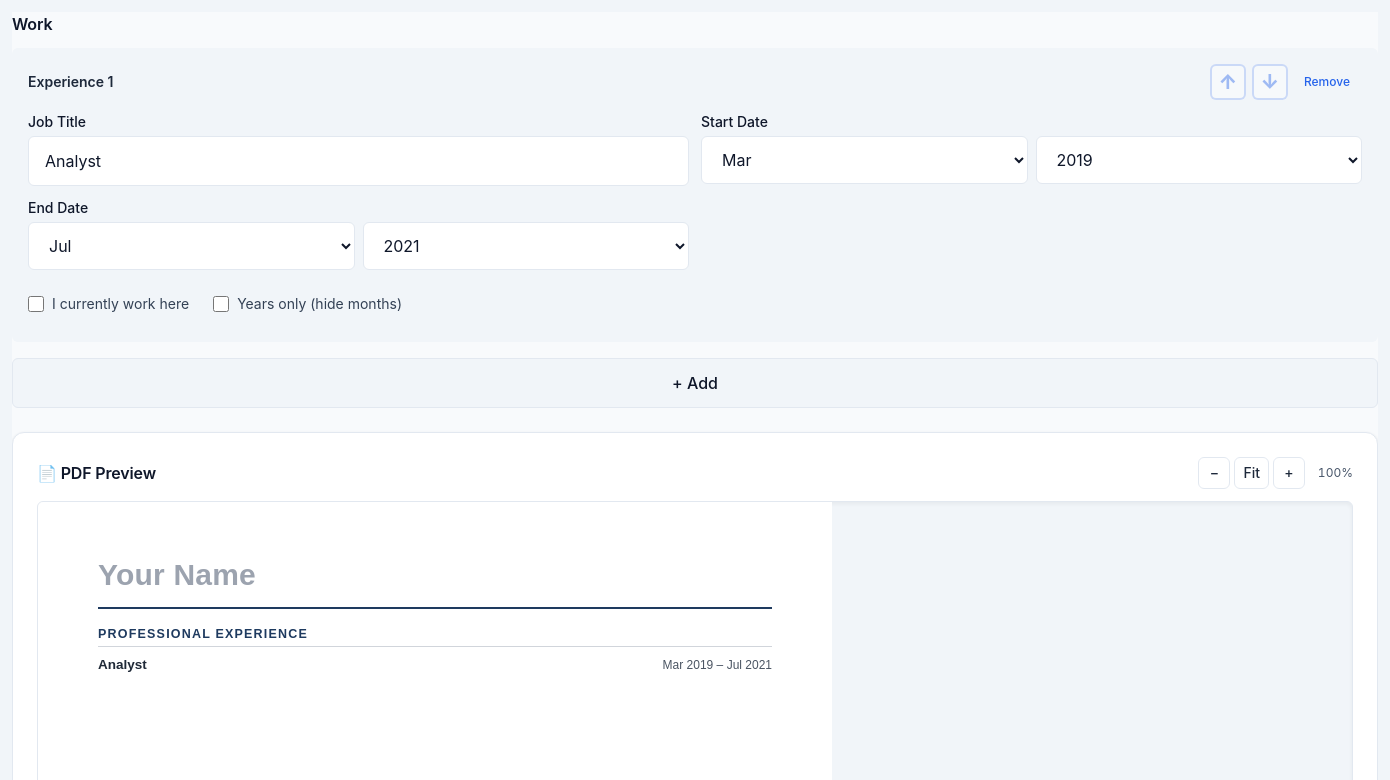
date fields with "Years only" › "Years only" hides months for the whole entry and keeps the years
This screenshot has width=1390, height=780.
Expected: the text "Mar 2019 – Jul 2021" is shown, [663,657,772,674]
What coordinates should you click on to do the following:
click the checkbox labelled "Years only (hide months)"
I would click on:
 (221, 304)
Its box is [213,296,229,312].
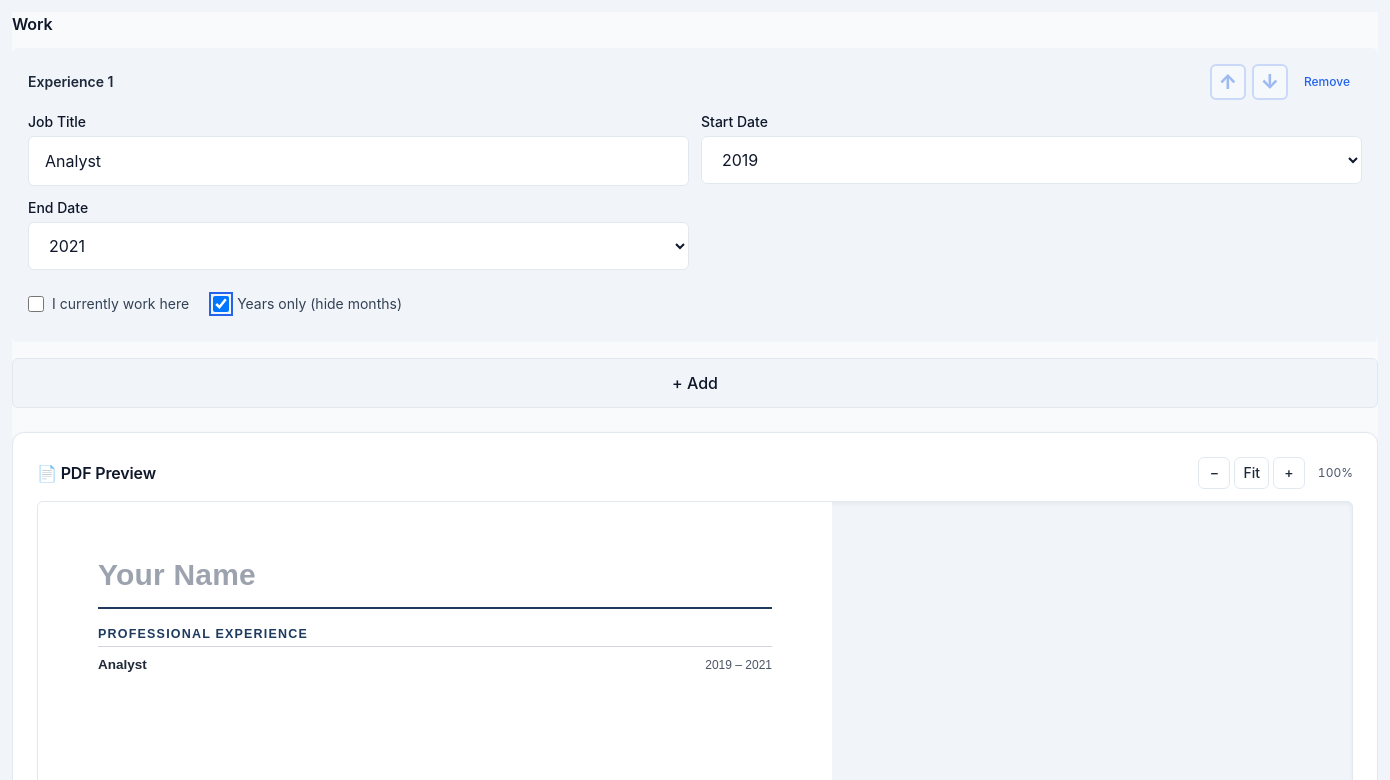
Expected: the field labelled "Start Date month" is not shown
Expected: the text "2019 – 2021" is shown, [705,657,772,674]
// Unticking brings the month pickers back, empty, with the years kept.
What coordinates should you click on to do the following:
click the checkbox labelled "Years only (hide months)"
I would click on:
 (221, 304)
Its box is [213,296,229,312].
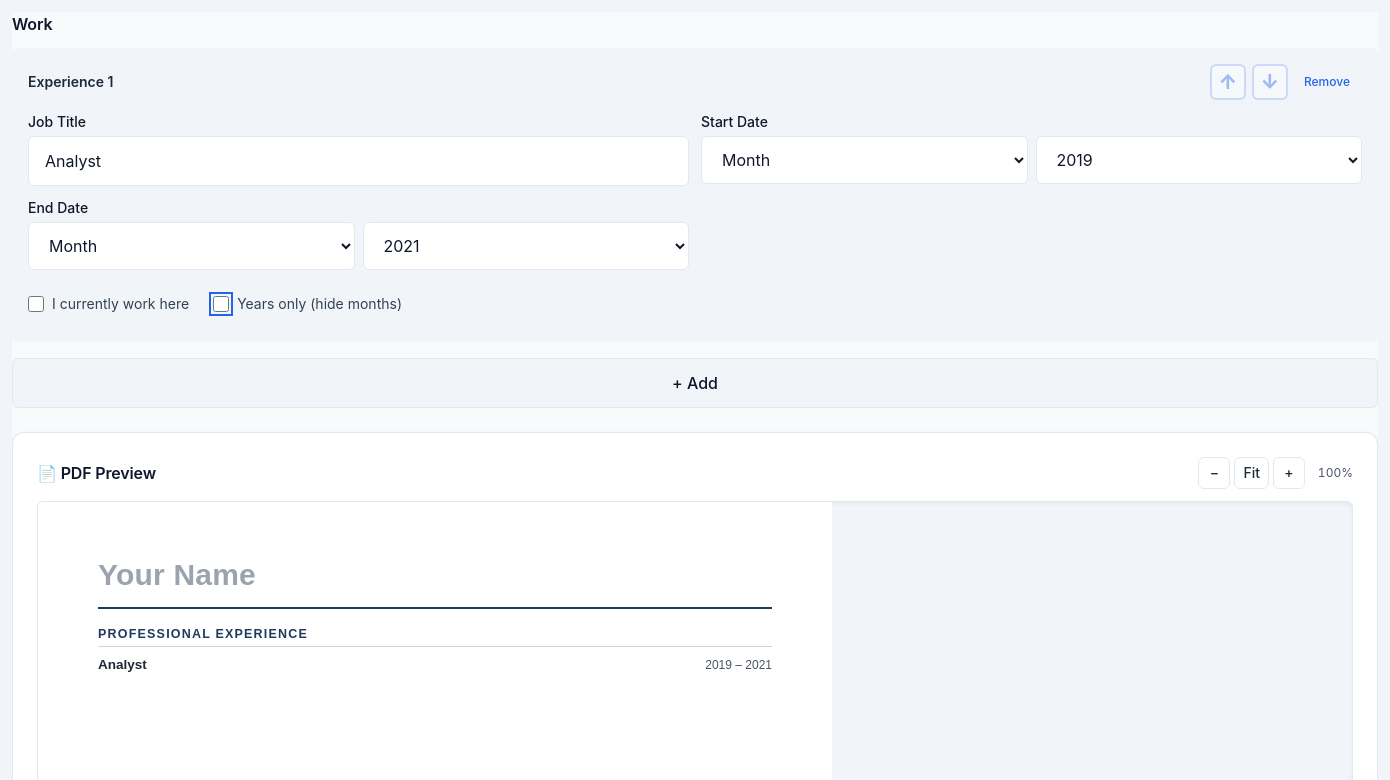
Expected: the 2nd dropdown named "Start Date year" shows "2019", [1036,136,1362,184]
Expected: the 1st dropdown named "Start Date month" shows "Month", [701,136,1028,184]
